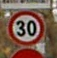limite 30: (6, 8, 46, 46)
